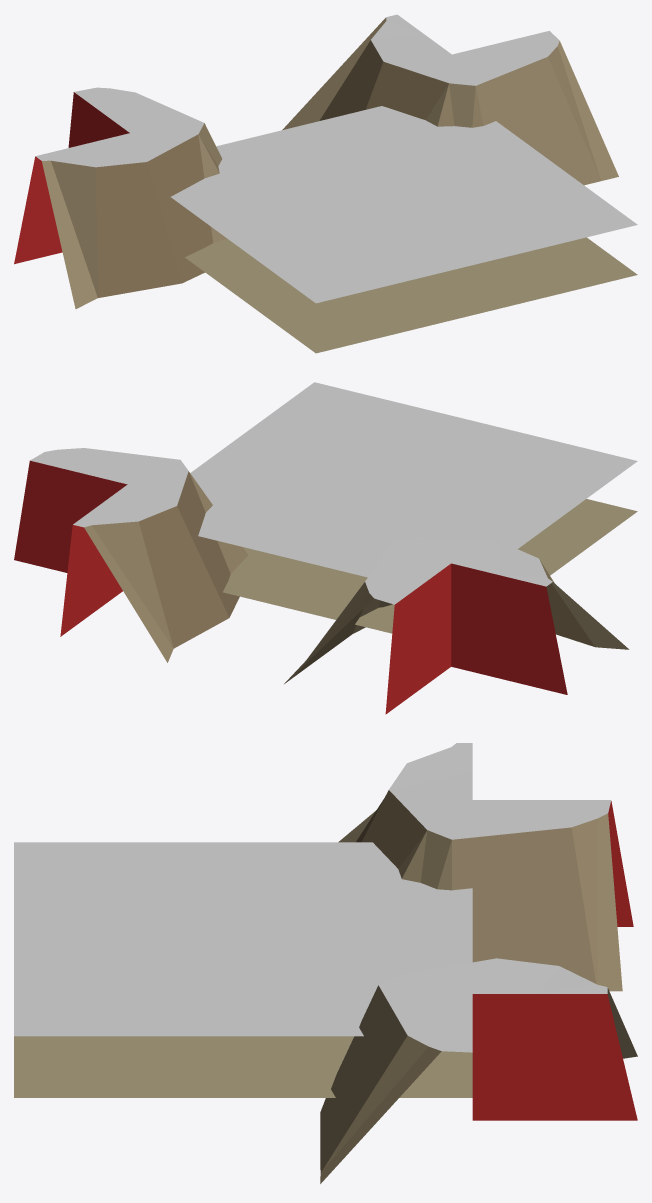
Rendered from Model_Tile_River_4W_2GTRTL.fbx.
3 views of the same model, one above another, from view 1: azimuth 30°, elevation 25°; view 2: azimuth 150°, elevation 25°; view 3: azimuth 270°, elevation 25° (orthographic). The views are drawn at different scales.
Visible parts, largest first — view 1: Model_Frost_Rivers2; view 2: Model_Frost_Rivers2; view 3: Model_Frost_Rivers2.
Part boxes in pixels (x1,y1,x2,y2): Model_Frost_Rivers2: [14, 14, 637, 353]; Model_Frost_Rivers2: [14, 382, 637, 714]; Model_Frost_Rivers2: [14, 743, 637, 1183].
Size of the model in its own units: 342 by 61.13 by 272.
